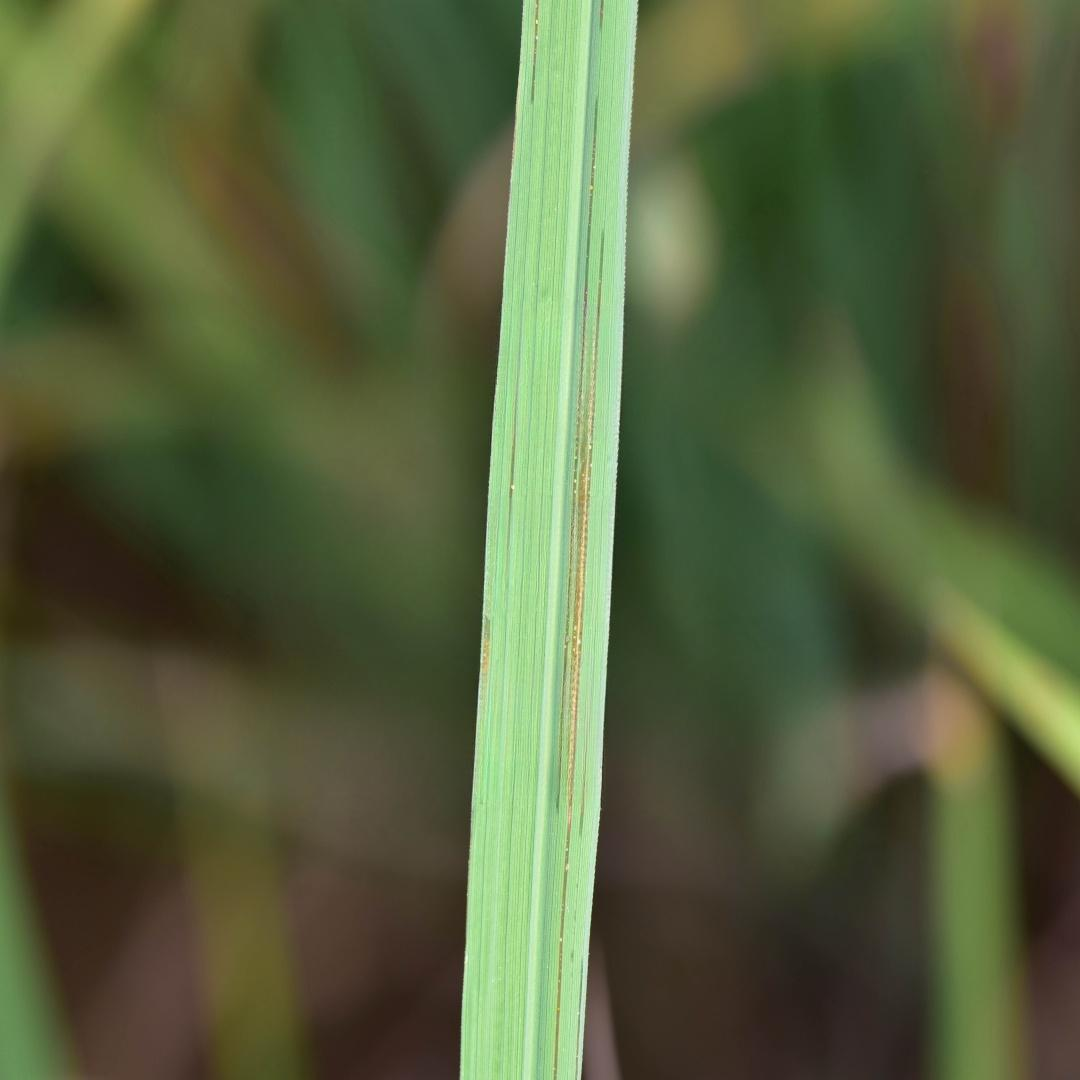BLS: (553, 223, 604, 1079), (558, 102, 596, 768), (574, 961, 583, 1079), (530, 0, 539, 99), (480, 616, 490, 700)
